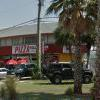Palm tree: (48, 0, 99, 85)
